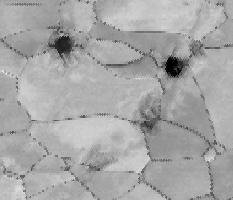good_void: (78, 141, 119, 175), (134, 92, 164, 133), (46, 32, 73, 60), (161, 53, 188, 80), (183, 35, 205, 59)
